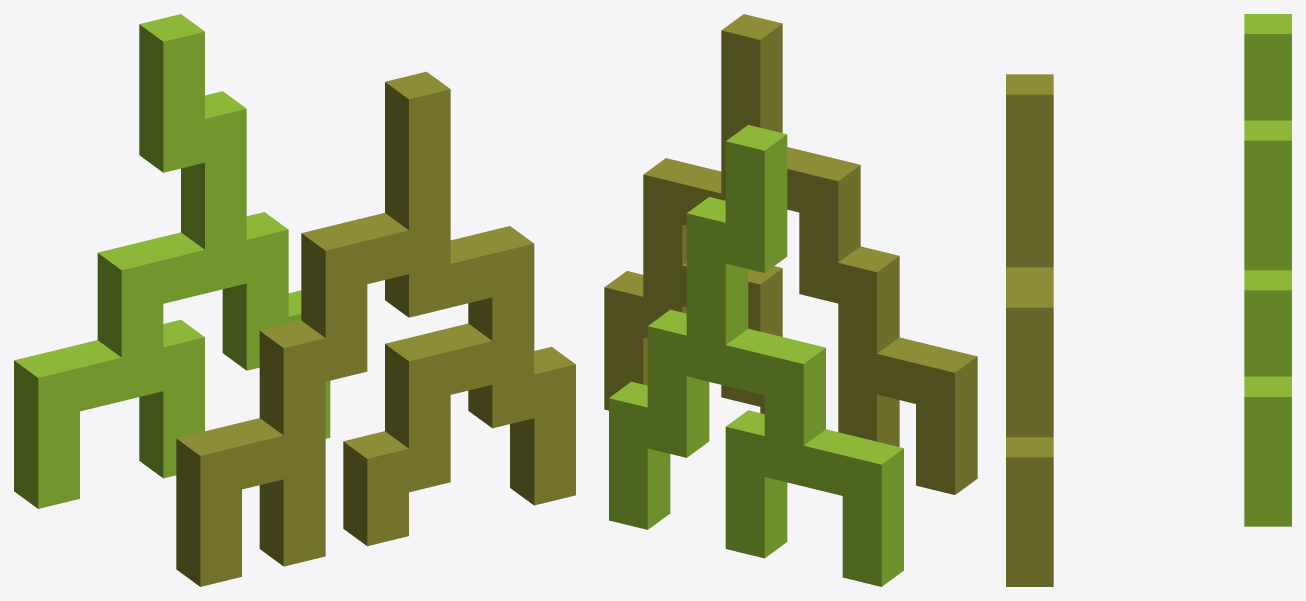
Rendered from water_spike_down.obj.
3 renders of one model, left to right at view 1: azimuth 30°, elevation 25°; view 2: azimuth 150°, elevation 25°; view 3: azimuth 270°, elevation 25°, orthographic. The views are drawn at different scales.
Size of the model in its own units: 1 by 1 by 0.6.
Materials: 1 (1 with a texture image).
